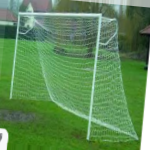goals: (9, 8, 141, 145)
